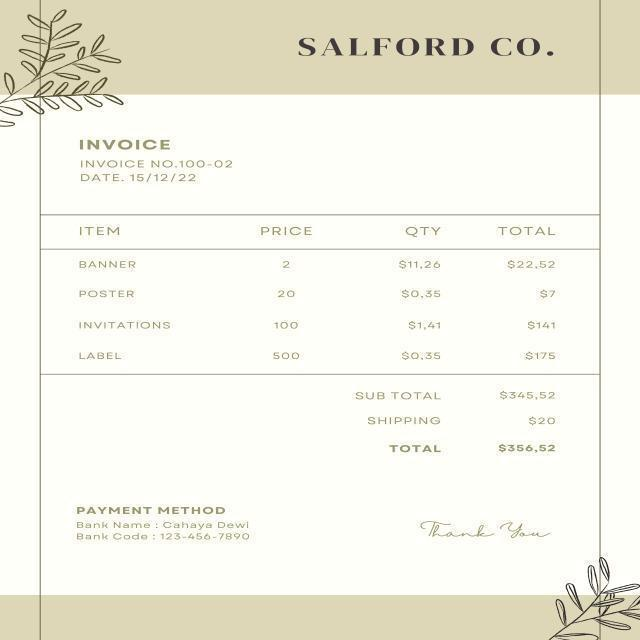ROI: (56, 221, 592, 370), (339, 379, 576, 474), (61, 494, 285, 568), (282, 31, 559, 70), (74, 129, 243, 188), (411, 501, 561, 559)
